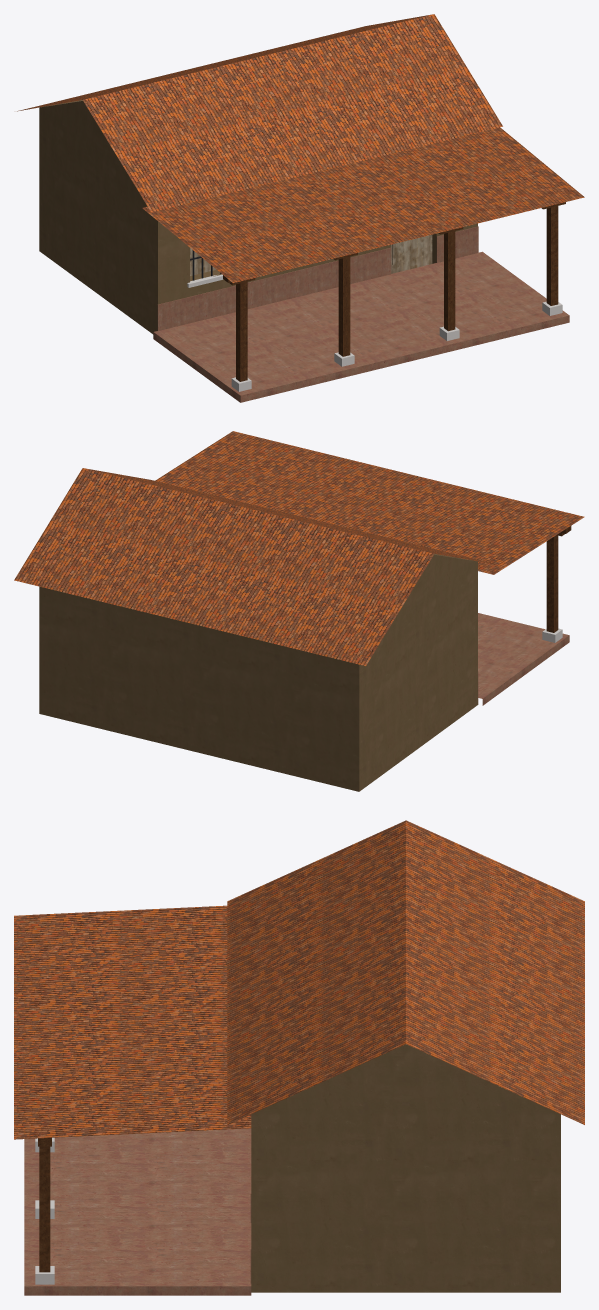
Rendered from casa_adobe.gltf.
3 renders of one model, top to bottom at view 1: azimuth 30°, elevation 25°; view 2: azimuth 150°, elevation 25°; view 3: azimuth 270°, elevation 25°, orthographic. The views are drawn at different scales.
Parts seen in each view (by area): view 1: portal, techo, casa_adobe, puerta, ventana; view 2: casa_adobe, techo, portal; view 3: portal, techo, casa_adobe.
Boxes of the visible parts, x1=… form: portal: x1=142, y1=127, x2=584, y2=402; techo: x1=17, y1=14, x2=502, y2=212; casa_adobe: x1=39, y1=100, x2=478, y2=334; puerta: x1=391, y1=235, x2=432, y2=273; ventana: x1=187, y1=248, x2=223, y2=287; casa_adobe: x1=39, y1=554, x2=478, y2=791; techo: x1=14, y1=468, x2=501, y2=665; portal: x1=155, y1=431, x2=584, y2=705; portal: x1=14, y1=905, x2=251, y2=1295; techo: x1=227, y1=820, x2=584, y2=1124; casa_adobe: x1=250, y1=1044, x2=560, y2=1292.
Size of the model in its own units: 7.7 by 4.15 by 8.3.
7 materials, 6 textured.
